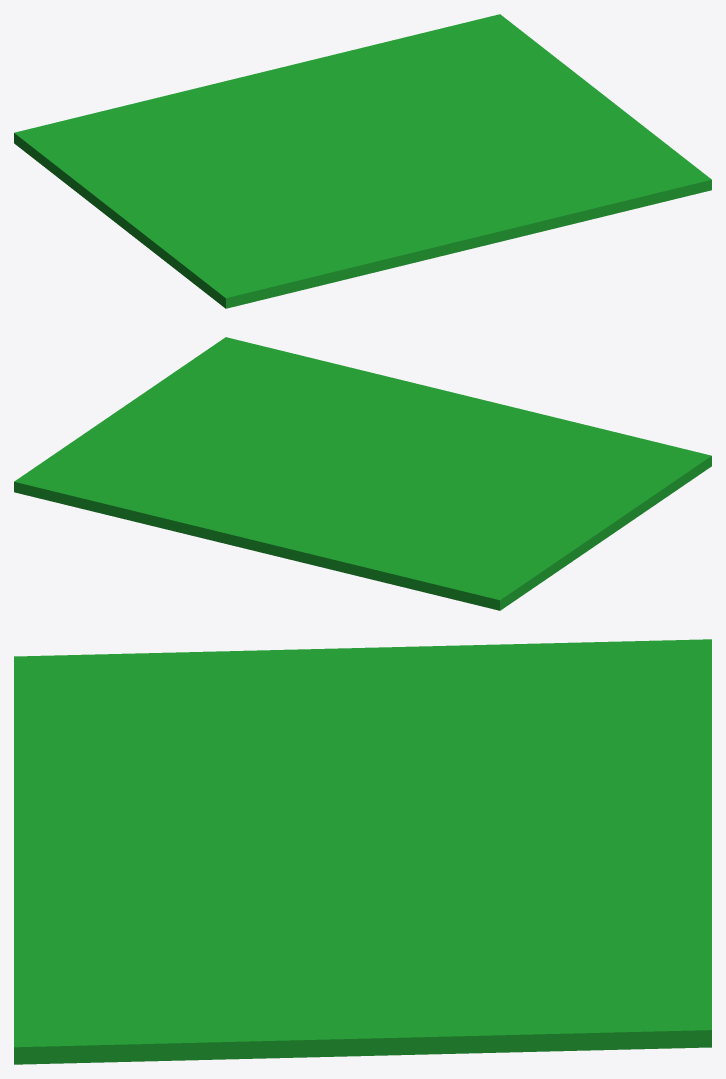
3 views of the same model, one above another, from view 1: azimuth 30°, elevation 25°; view 2: azimuth 150°, elevation 25°; view 3: azimuth 270°, elevation 25° (orthographic). The views are drawn at different scales.
Parts seen in each view (by area): view 1: pb_Mesh-151534(Clone)(Clone)(Clone)(Clone)(Clone); view 2: pb_Mesh-151534(Clone)(Clone)(Clone)(Clone)(Clone); view 3: pb_Mesh-151534(Clone)(Clone)(Clone)(Clone)(Clone).
Part boxes in pixels (left/top/right/bottom): pb_Mesh-151534(Clone)(Clone)(Clone)(Clone)(Clone): left=14, top=14, right=711, bottom=308; pb_Mesh-151534(Clone)(Clone)(Clone)(Clone)(Clone): left=14, top=337, right=711, bottom=610; pb_Mesh-151534(Clone)(Clone)(Clone)(Clone)(Clone): left=14, top=639, right=711, bottom=1064.
Size of the model in its own units: 188 by 7.75 by 142.
